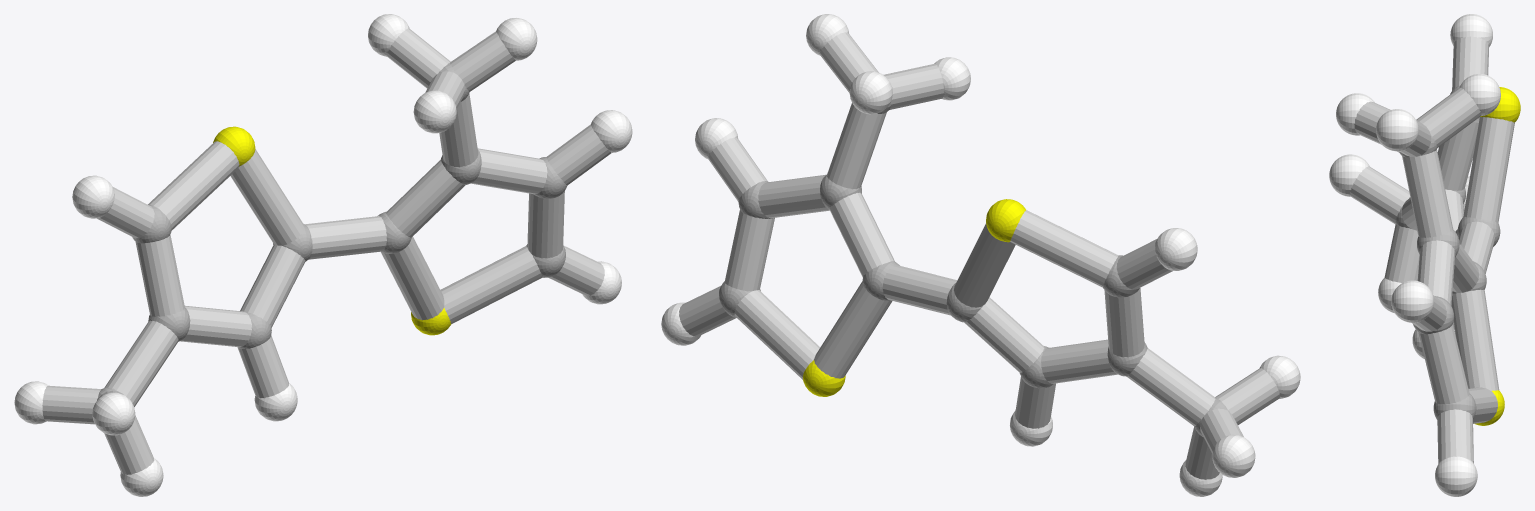
File: Methylthiophene_Phi_15_Theta_30_Methylthiophene.glb
3 renders of one model, left to right at view 1: azimuth 30°, elevation 25°; view 2: azimuth 150°, elevation 25°; view 3: azimuth 270°, elevation 25°, orthographic.
Visible parts, largest first — view 1: grp7965, grp3621, grp1, grp7241; view 2: grp7965, grp3621, grp1, grp7241; view 3: grp7965, grp3621, grp1, grp7241.
Boxes of the visible parts, x1=… form: grp7965: x1=42, y1=28, x2=611, y2=474; grp3621: x1=14, y1=14, x2=632, y2=496; grp1: x1=97, y1=63, x2=566, y2=404; grp7241: x1=213, y1=126, x2=451, y2=335; grp7965: x1=679, y1=32, x2=1279, y2=479; grp3621: x1=661, y1=14, x2=1300, y2=496; grp1: x1=719, y1=102, x2=1229, y2=436; grp7241: x1=803, y1=199, x2=1025, y2=396; grp7965: x1=1350, y1=36, x2=1514, y2=463; grp3621: x1=1329, y1=14, x2=1500, y2=496; grp1: x1=1395, y1=85, x2=1500, y2=419; grp7241: x1=1474, y1=87, x2=1520, y2=425.
Size of the model in its own units: 9.52 by 5.9 by 2.69.
